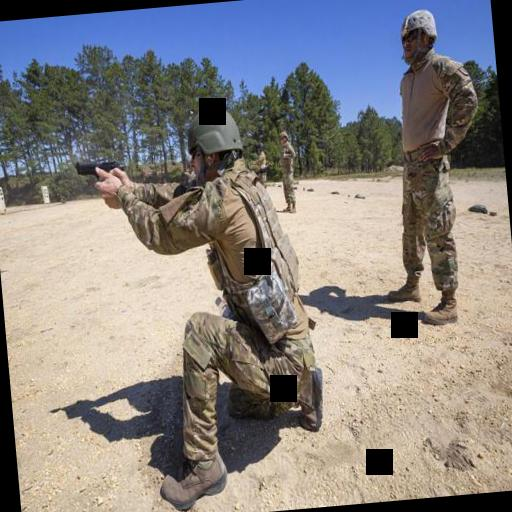Handgun: (72, 152, 124, 192)
